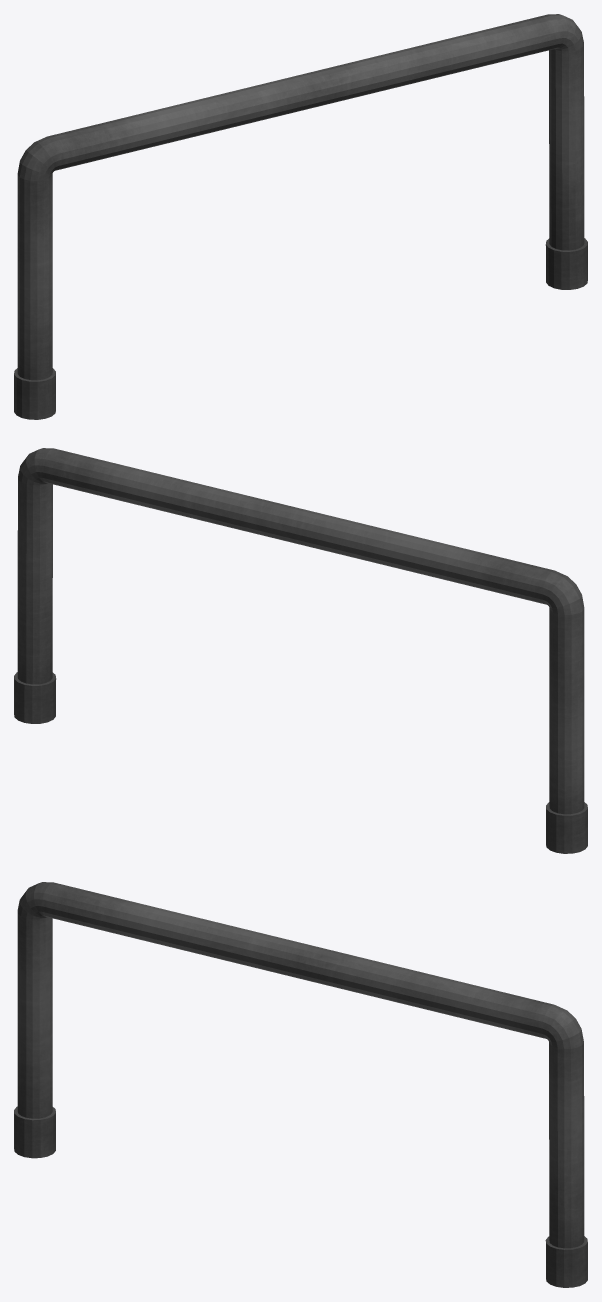
Rendered from barierkaduza.obj.
3 renders of one model, top to bottom at view 1: azimuth 30°, elevation 25°; view 2: azimuth 150°, elevation 25°; view 3: azimuth 330°, elevation 25°, orthographic.
Visible parts, largest first — view 1: Barierka.NR2.004_Cylinder.004; view 2: Barierka.NR2.004_Cylinder.004; view 3: Barierka.NR2.004_Cylinder.004.
Part boxes in pixels (x1,y1,x2,y2): Barierka.NR2.004_Cylinder.004: (14, 14, 587, 419); Barierka.NR2.004_Cylinder.004: (14, 448, 587, 853); Barierka.NR2.004_Cylinder.004: (14, 882, 587, 1287).
Size of the model in its own units: 5.94 by 2.69 by 0.384.
1 material, 1 textured.
